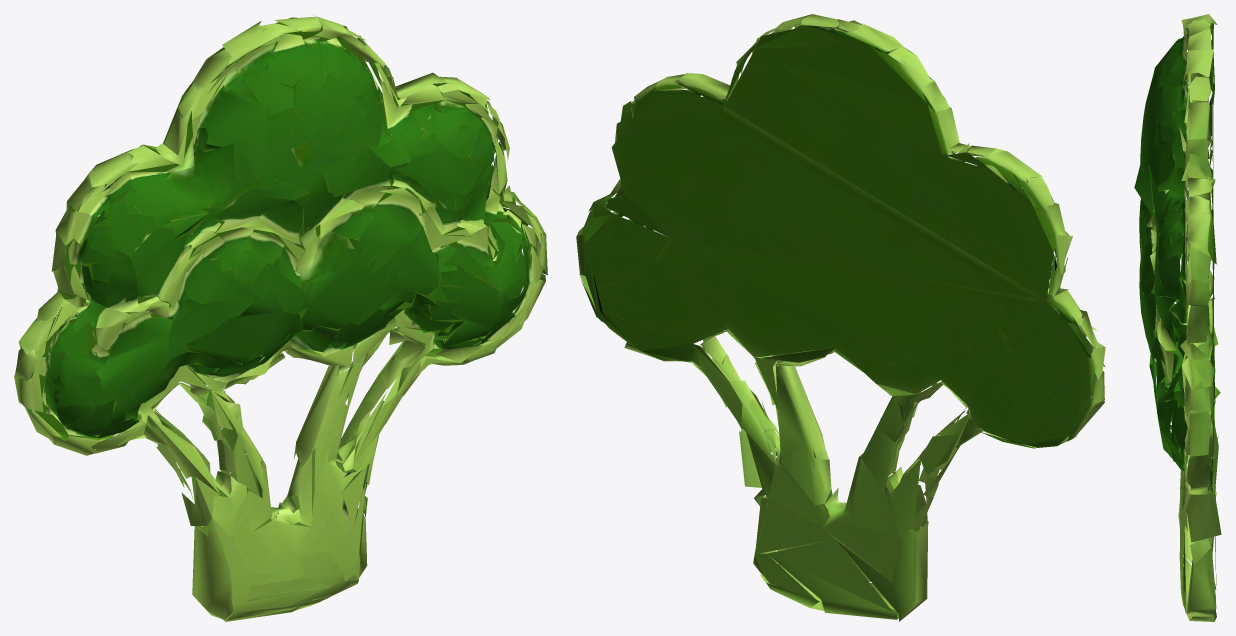
The model's file is getkong-broccoli2-lo.glb.
The picture shows the model from 3 angles, left to right: view 1: azimuth 30°, elevation 25°; view 2: azimuth 150°, elevation 25°; view 3: azimuth 270°, elevation 25°; orthographic projection. The views are drawn at different scales.
Parts seen in each view (by area): view 1: output_unwrapped; view 2: output_unwrapped; view 3: output_unwrapped.
Part boxes in pixels (x1,y1,x2,y2): output_unwrapped: [14, 15, 547, 621]; output_unwrapped: [576, 14, 1105, 621]; output_unwrapped: [1134, 14, 1221, 621].
Size of the model in its own units: 1.77 by 1.9 by 0.2617.
1 material, 1 textured.
